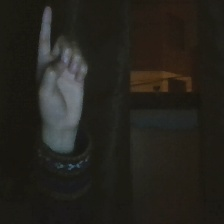D: (28, 3, 97, 139)
